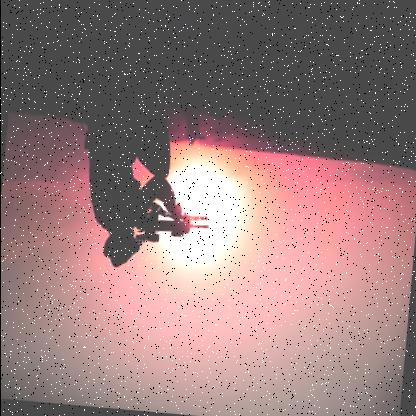rifle: (127, 194, 213, 253)
